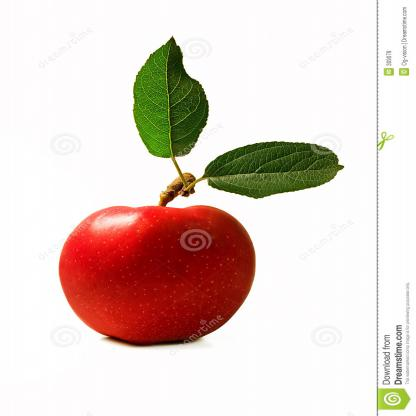Apple leaf: (128, 32, 220, 170), (206, 143, 365, 206)
